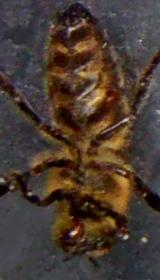varroa_mite: (96, 86, 125, 111)
